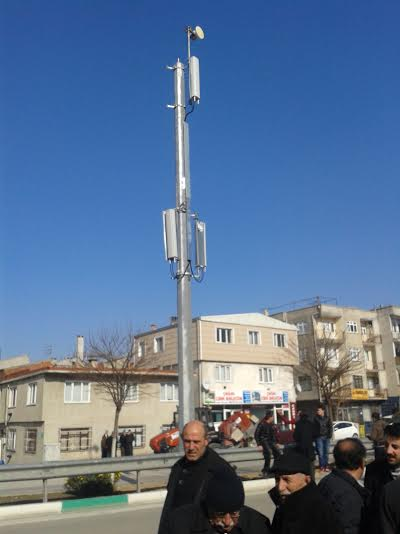a: (163, 211, 179, 259), (195, 222, 207, 270), (189, 57, 201, 101)
b: (193, 26, 205, 38)
